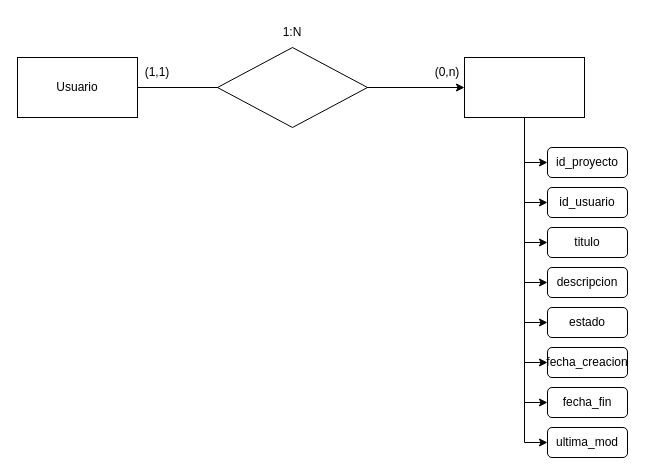
Image size: 645x475. Some labels were removed from this diagram. The shapes that lost their labels are listed below. From the top down, each one's centre as x and y in pixels, then its label:
At point 292,87: "Gestiona".
At point 524,87: "Tarea".
